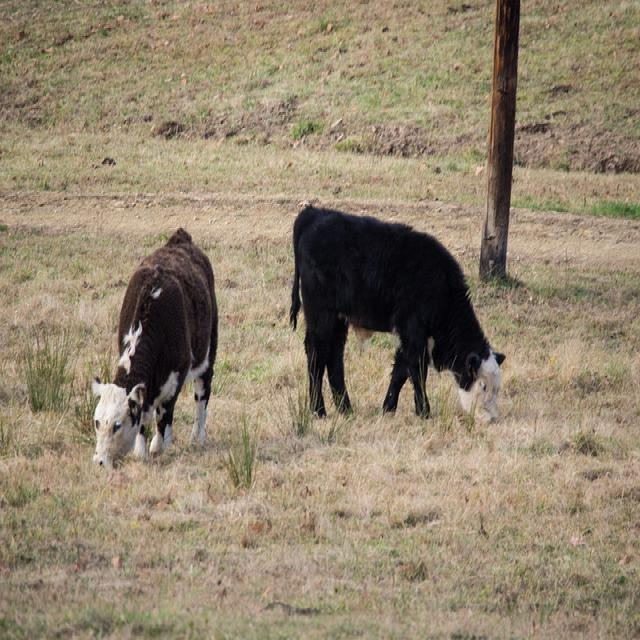cow: (288, 204, 505, 429), (90, 225, 217, 471)
